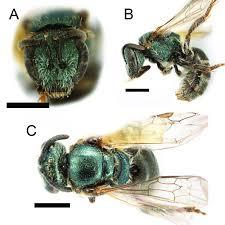Lasioglossum: (31, 112, 214, 224), (116, 2, 224, 104), (16, 6, 101, 98)
